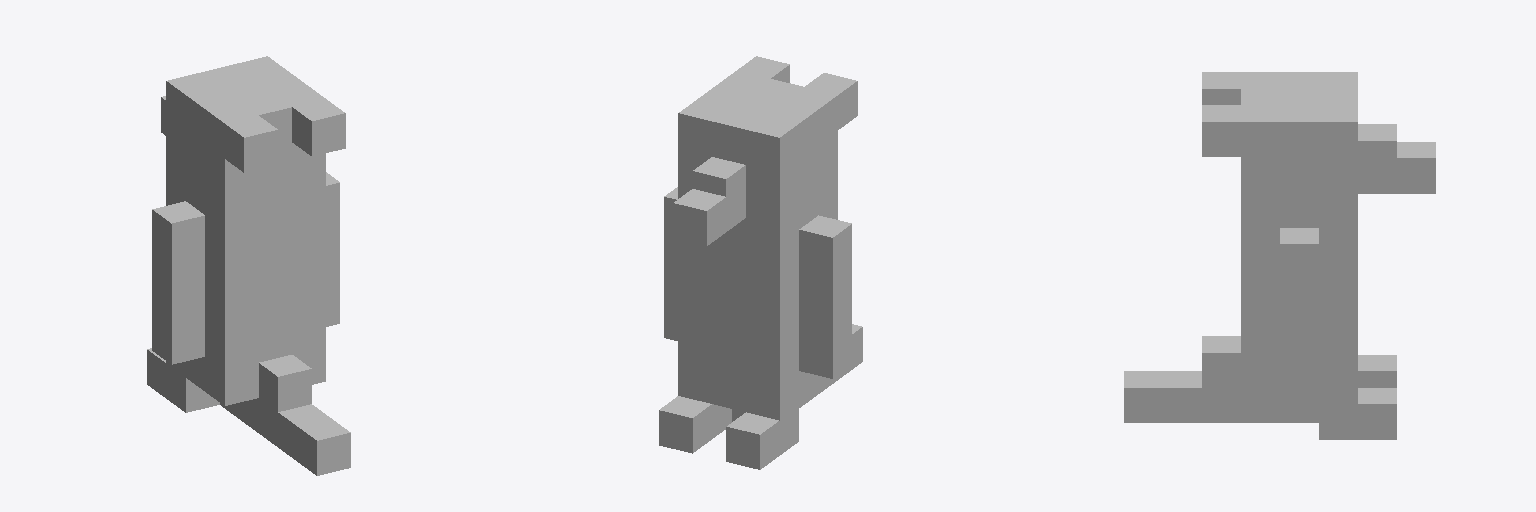
Rendered from penguin.obj.
3 views of the same model, side by side, from view 1: azimuth 30°, elevation 25°; view 2: azimuth 150°, elevation 25°; view 3: azimuth 270°, elevation 25° (orthographic).
Parts seen in each view (by area): view 1: cube; view 2: cube; view 3: cube.
Boxes of the visible parts, <box> form: cube: <box>147,56,350,475</box>; cube: <box>659,56,862,469</box>; cube: <box>1124,72,1435,439</box>.
Bounding box in the file's own units: 0.9375 × 1.69 × 1.5.